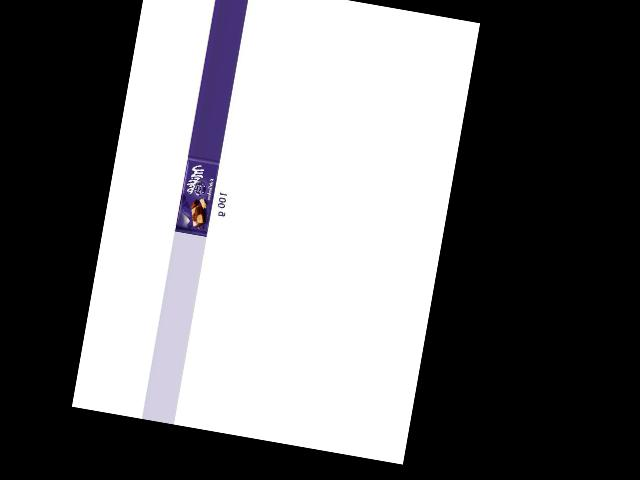chocolate: (174, 155, 221, 237)
